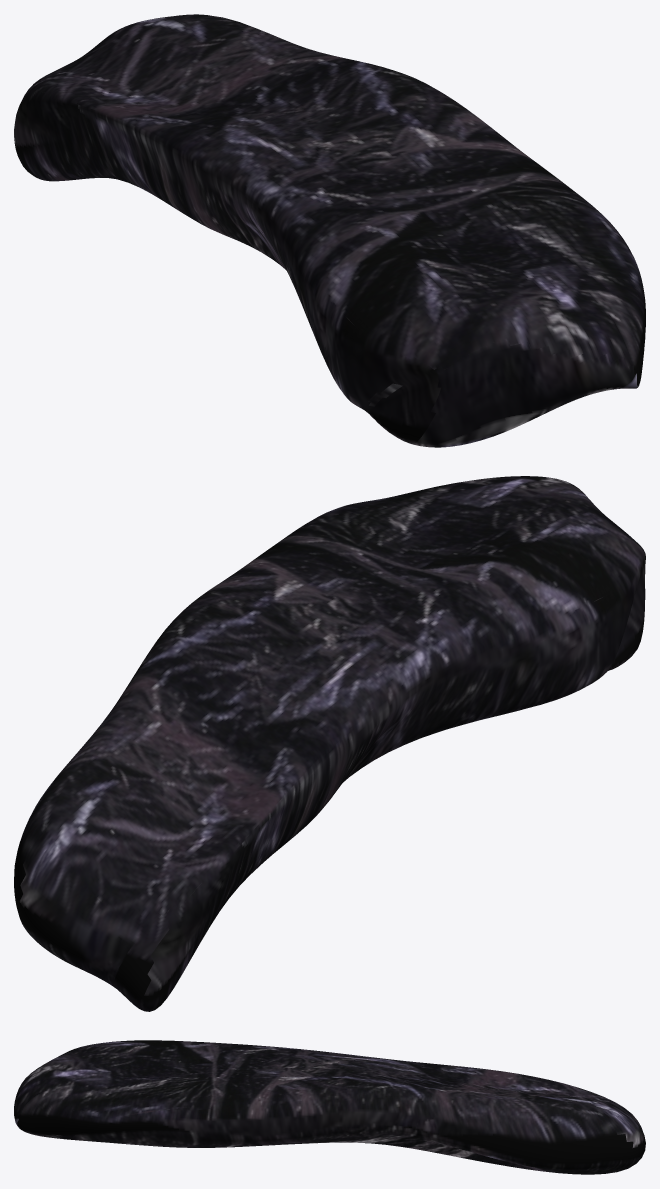
File: BOLSADELNENE.fbx
3 views of the same model, one above another, from view 1: azimuth 30°, elevation 25°; view 2: azimuth 150°, elevation 25°; view 3: azimuth 270°, elevation 25° (orthographic). The views are drawn at different scales.
Parts seen in each view (by area): view 1: Cube; view 2: Cube; view 3: Cube.
Part boxes in pixels (x1,y1,x2,y2): Cube: (14,14,645,447); Cube: (14,476,645,1011); Cube: (14,1040,645,1174).
Size of the model in its own units: 159 by 110 by 492.
Materials: 1 (1 with a texture image).
